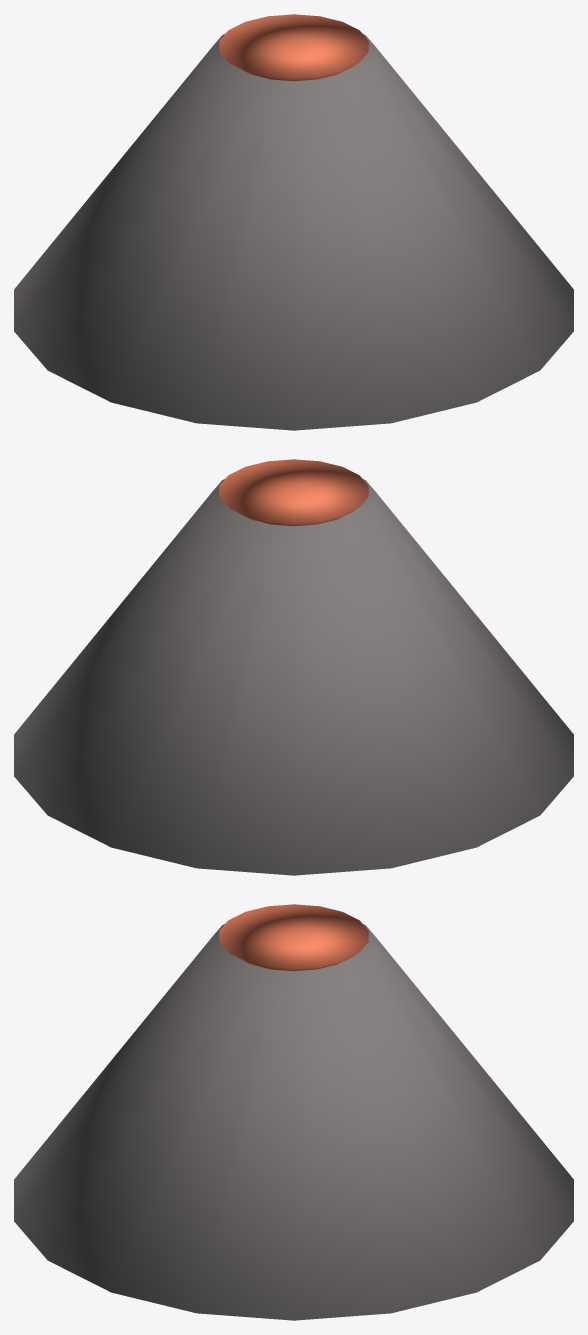
The model's file is volcano.glb.
3 renders of one model, top to bottom at view 1: azimuth 30°, elevation 25°; view 2: azimuth 150°, elevation 25°; view 3: azimuth 270°, elevation 25°, orthographic.
Parts seen in each view (by area): view 1: cone, crater; view 2: cone, crater; view 3: cone, crater.
Boxes of the visible parts, <box> form: cone: <box>14,34,573,430</box>; crater: <box>219,14,368,81</box>; cone: <box>14,479,573,875</box>; crater: <box>219,459,368,526</box>; cone: <box>14,924,573,1320</box>; crater: <box>219,904,368,971</box>.
Size of the model in its own units: 2.4 by 1.23 by 2.36.
